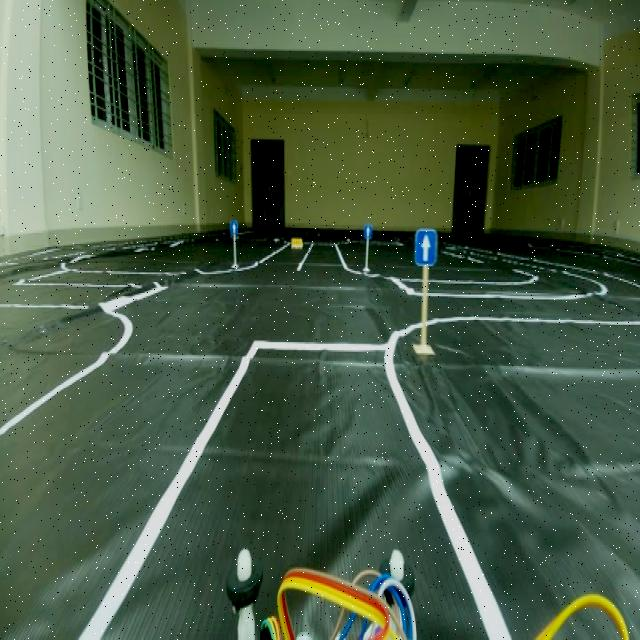onewayroad: (414, 226, 438, 272), (362, 221, 372, 240), (229, 216, 238, 234)
roadblock: (287, 232, 307, 254)
